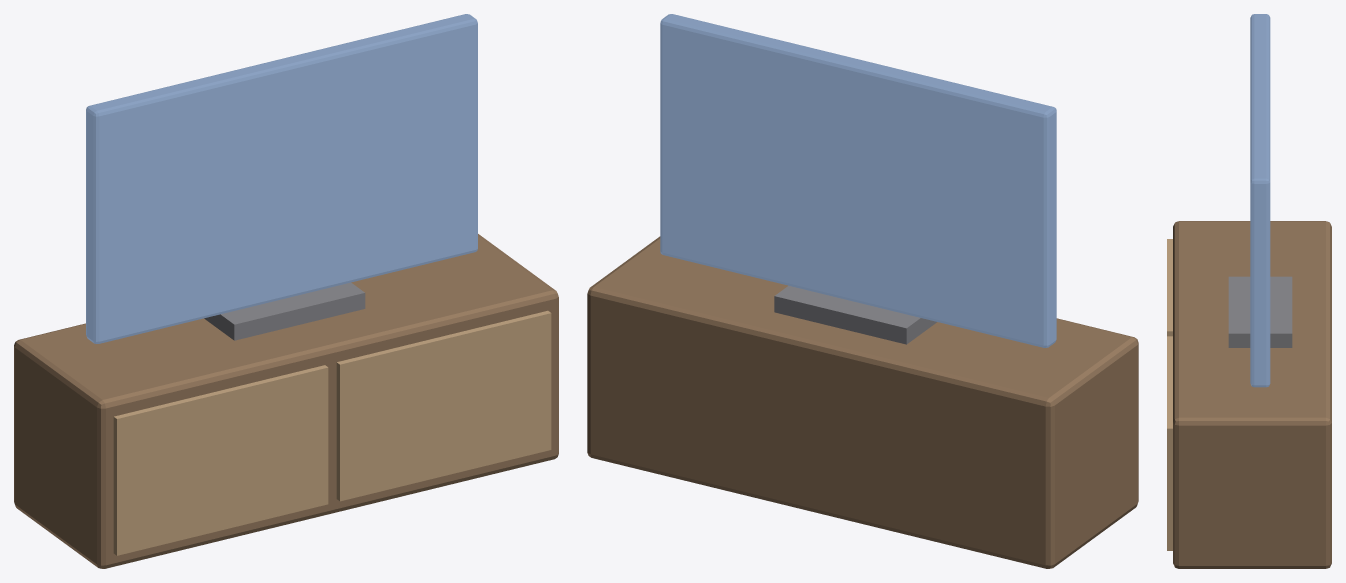
The model's file is fur_tv_stand.glb.
3 renders of one model, left to right at view 1: azimuth 30°, elevation 25°; view 2: azimuth 150°, elevation 25°; view 3: azimuth 270°, elevation 25°, orthographic. The views are drawn at different scales.
Visible parts, largest first — view 1: fur_tv_stand; view 2: fur_tv_stand; view 3: fur_tv_stand.
Part boxes in pixels (x1,y1,x2,y2): fur_tv_stand: [14, 14, 558, 568]; fur_tv_stand: [587, 14, 1138, 568]; fur_tv_stand: [1167, 14, 1331, 568].
Size of the model in its own units: 1.2 by 1.04 by 0.415.
